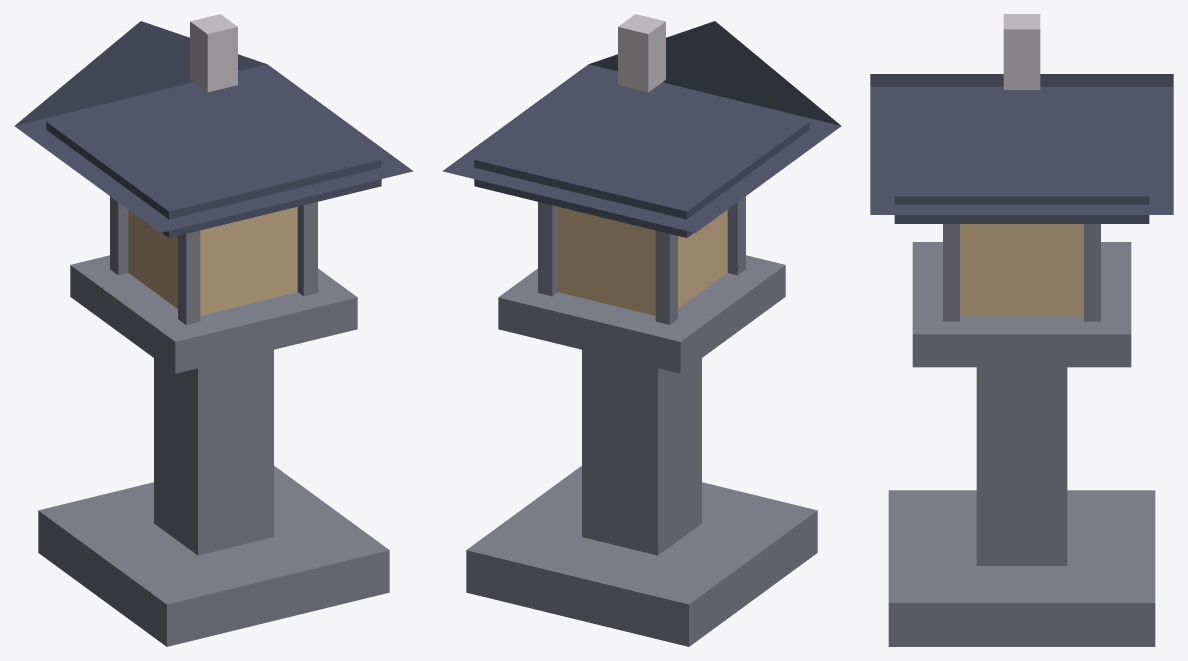
The model's file is moonfall_ritual_lantern_lod0.glb.
3 renders of one model, left to right at view 1: azimuth 30°, elevation 25°; view 2: azimuth 150°, elevation 25°; view 3: azimuth 270°, elevation 25°, orthographic. The views are drawn at different scales.
Visible parts, largest first — view 1: moonfall_ritual_lantern_000, moonfall_ritual_lantern_004, moonfall_ritual_lantern_001, moonfall_ritual_lantern_005, moonfall_ritual_lantern_002, moonfall_ritual_lantern_003, moonfall_ritual_lantern_006, moonfall_ritual_lantern_008, moonfall_ritual_lantern_010, moonfall_ritual_lantern_007; view 2: moonfall_ritual_lantern_000, moonfall_ritual_lantern_004, moonfall_ritual_lantern_001, moonfall_ritual_lantern_005, moonfall_ritual_lantern_002, moonfall_ritual_lantern_003, moonfall_ritual_lantern_006, moonfall_ritual_lantern_007, moonfall_ritual_lantern_009, moonfall_ritual_lantern_008; view 3: moonfall_ritual_lantern_000, moonfall_ritual_lantern_004, moonfall_ritual_lantern_001, moonfall_ritual_lantern_002, moonfall_ritual_lantern_005, moonfall_ritual_lantern_003, moonfall_ritual_lantern_006, moonfall_ritual_lantern_009, moonfall_ritual_lantern_010.
Boxes of the visible parts, box(x1,y1,x2,y2) form: moonfall_ritual_lantern_000: box(38, 466, 389, 646); moonfall_ritual_lantern_004: box(46, 70, 381, 237); moonfall_ritual_lantern_001: box(154, 350, 273, 555); moonfall_ritual_lantern_005: box(14, 21, 413, 232); moonfall_ritual_lantern_002: box(70, 255, 357, 373); moonfall_ritual_lantern_003: box(128, 207, 297, 315); moonfall_ritual_lantern_006: box(190, 14, 237, 92); moonfall_ritual_lantern_008: box(178, 230, 200, 324); moonfall_ritual_lantern_010: box(297, 202, 317, 296); moonfall_ritual_lantern_007: box(110, 196, 128, 275); moonfall_ritual_lantern_000: box(466, 466, 817, 646); moonfall_ritual_lantern_004: box(474, 70, 809, 237); moonfall_ritual_lantern_001: box(582, 350, 701, 555); moonfall_ritual_lantern_005: box(442, 21, 841, 232); moonfall_ritual_lantern_002: box(498, 255, 785, 373); moonfall_ritual_lantern_003: box(558, 207, 727, 315); moonfall_ritual_lantern_006: box(618, 14, 665, 92); moonfall_ritual_lantern_007: box(655, 230, 677, 324); moonfall_ritual_lantern_009: box(538, 202, 558, 296); moonfall_ritual_lantern_008: box(727, 196, 745, 275); moonfall_ritual_lantern_000: box(888, 490, 1155, 646); moonfall_ritual_lantern_004: box(894, 88, 1149, 223); moonfall_ritual_lantern_001: box(976, 367, 1067, 565); moonfall_ritual_lantern_002: box(912, 242, 1131, 367); moonfall_ritual_lantern_005: box(870, 74, 1173, 214); moonfall_ritual_lantern_003: box(960, 224, 1083, 316); moonfall_ritual_lantern_006: box(1003, 14, 1040, 89); moonfall_ritual_lantern_009: box(1084, 224, 1100, 321); moonfall_ritual_lantern_010: box(943, 224, 959, 321).
Size of the model in its own units: 2.5 by 5.18 by 2.5.
